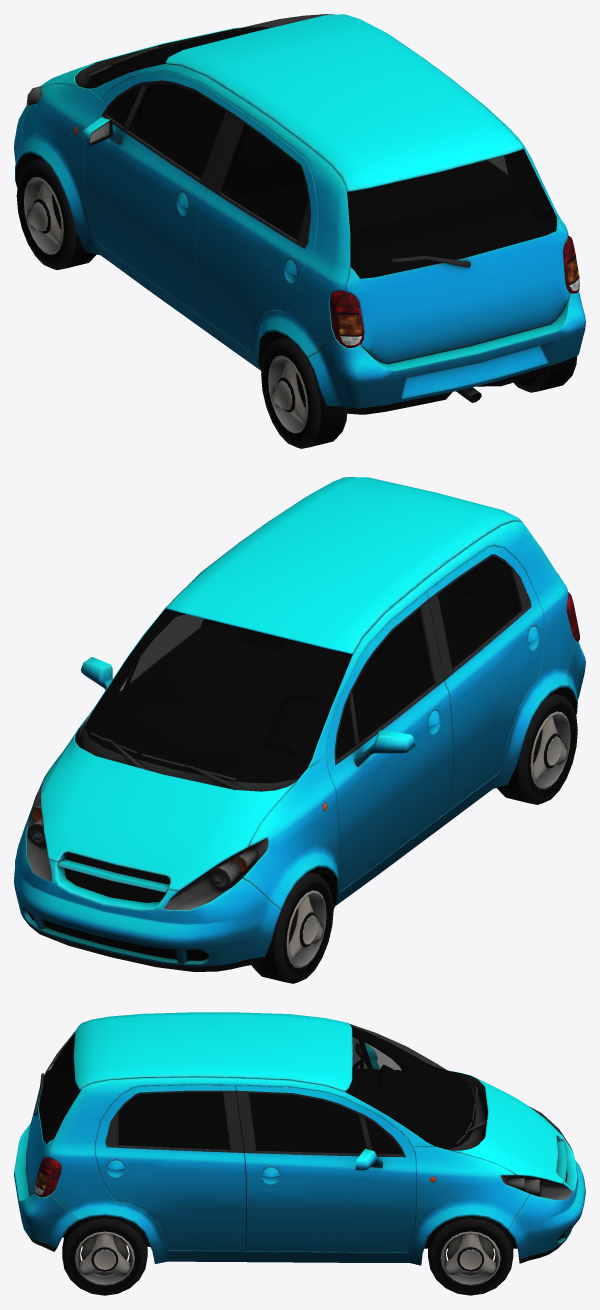
Rendered from car_compact.glb.
3 renders of one model, top to bottom at view 1: azimuth 30°, elevation 25°; view 2: azimuth 150°, elevation 25°; view 3: azimuth 270°, elevation 25°, orthographic. The views are drawn at different scales.
Parts seen in each view (by area): view 1: Compact Body_Body_0, Compact Body_Glass_0, Wheel_C001_Wheel_0, Wheel_C_Wheel_0, Compact Body_Optics_0, Wheel_C002_Wheel_0; view 2: Compact Body_Body_0, Compact Body_Glass_0, Wheel_C_Wheel_0, Wheel_C001_Wheel_0, Compact Body_Optics_0; view 3: Compact Body_Body_0, Compact Body_Glass_0, Wheel_C002_Wheel_0, Wheel_C003_Wheel_0, Compact Body_Optics_0.
Part boxes in pixels (x1=…): Compact Body_Body_0: x1=14, y1=14, x2=585, y2=414; Compact Body_Glass_0: x1=26, y1=14, x2=556, y2=278; Wheel_C001_Wheel_0: x1=261, y1=336, x2=347, y2=448; Wheel_C_Wheel_0: x1=16, y1=158, x2=96, y2=269; Compact Body_Optics_0: x1=73, y1=126, x2=579, y2=348; Wheel_C002_Wheel_0: x1=514, y1=356, x2=577, y2=392; Compact Body_Body_0: x1=14, y1=477, x2=585, y2=971; Compact Body_Glass_0: x1=26, y1=557, x2=521, y2=910; Wheel_C_Wheel_0: x1=251, y1=872, x2=333, y2=983; Wheel_C001_Wheel_0: x1=497, y1=692, x2=577, y2=804; Compact Body_Optics_0: x1=28, y1=592, x2=579, y2=889; Compact Body_Body_0: x1=14, y1=1012, x2=585, y2=1265; Compact Body_Glass_0: x1=39, y1=1024, x2=572, y2=1199; Wheel_C002_Wheel_0: x1=62, y1=1215, x2=147, y2=1295; Wheel_C003_Wheel_0: x1=428, y1=1216, x2=513, y2=1295; Compact Body_Optics_0: x1=35, y1=1113, x2=542, y2=1197.
Bounding box in the file's own units: 1.92 × 1.57 × 3.9.
Materials: 4 (3 with a texture image).
